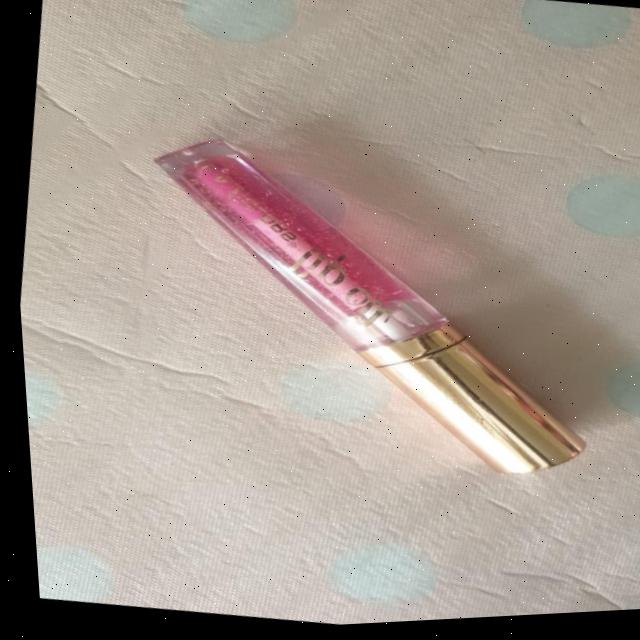lip gloss: (75, 105, 640, 527)
